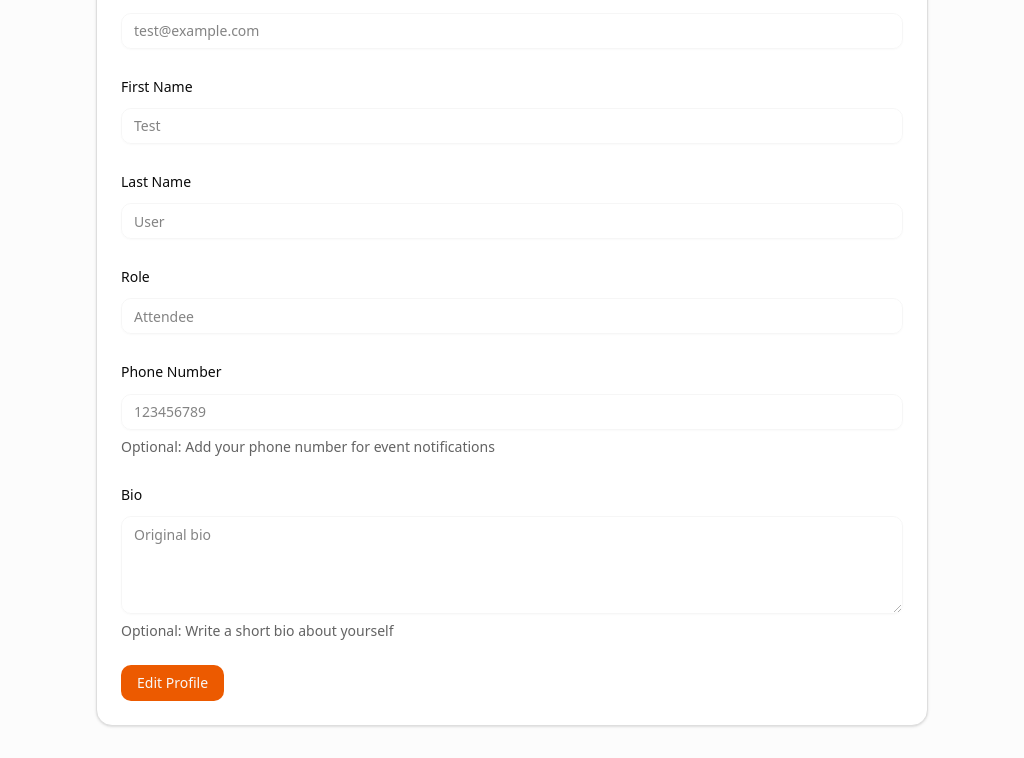
Test: Profile Page › Edit functionality › should cancel edit and restore original values
The image size is (1024, 758).
(page scrolled)
Step 1. Click the button "Edit Profile" → {"x": 173, "y": 683}, box left=121, top=665, right=224, bottom=701
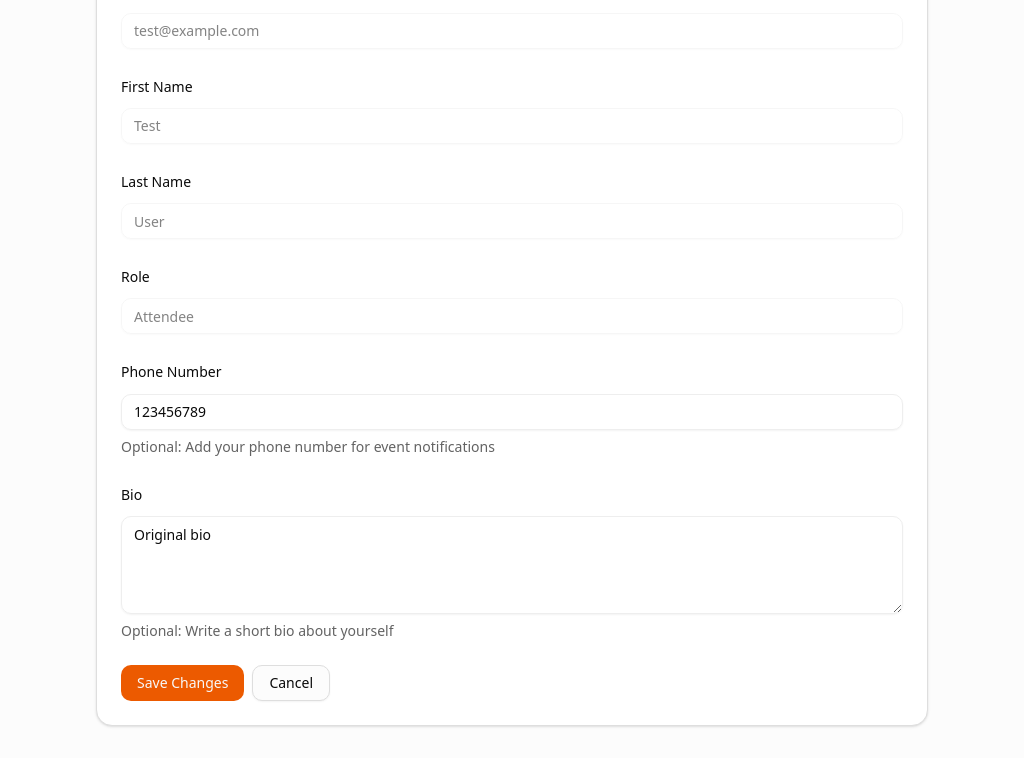
Step 2. Replace the text in the field labelled "Phone Number" with "999999999" → {"x": 512, "y": 412}, box left=121, top=394, right=903, bottom=430
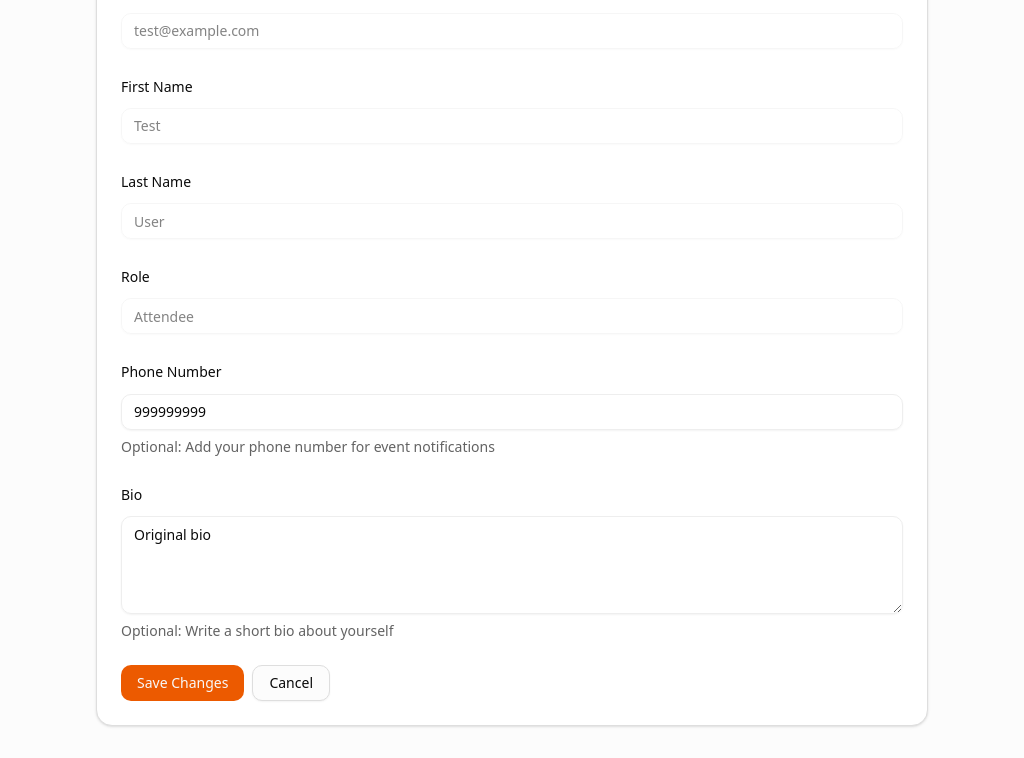
Step 3. Click the button "Cancel" → {"x": 291, "y": 683}, box left=252, top=665, right=330, bottom=701
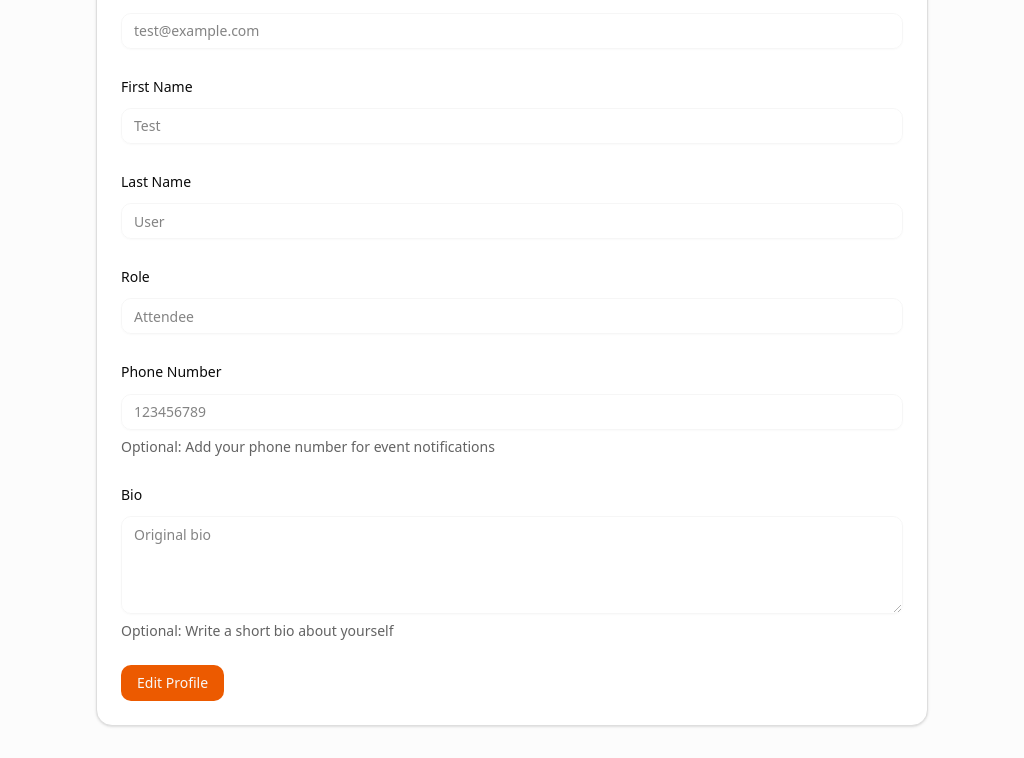
Expected: the text box showing "Original bio" is shown, left=121, top=516, right=903, bottom=614
Result: the field showing "123456789" is shown at left=121, top=394, right=903, bottom=430
